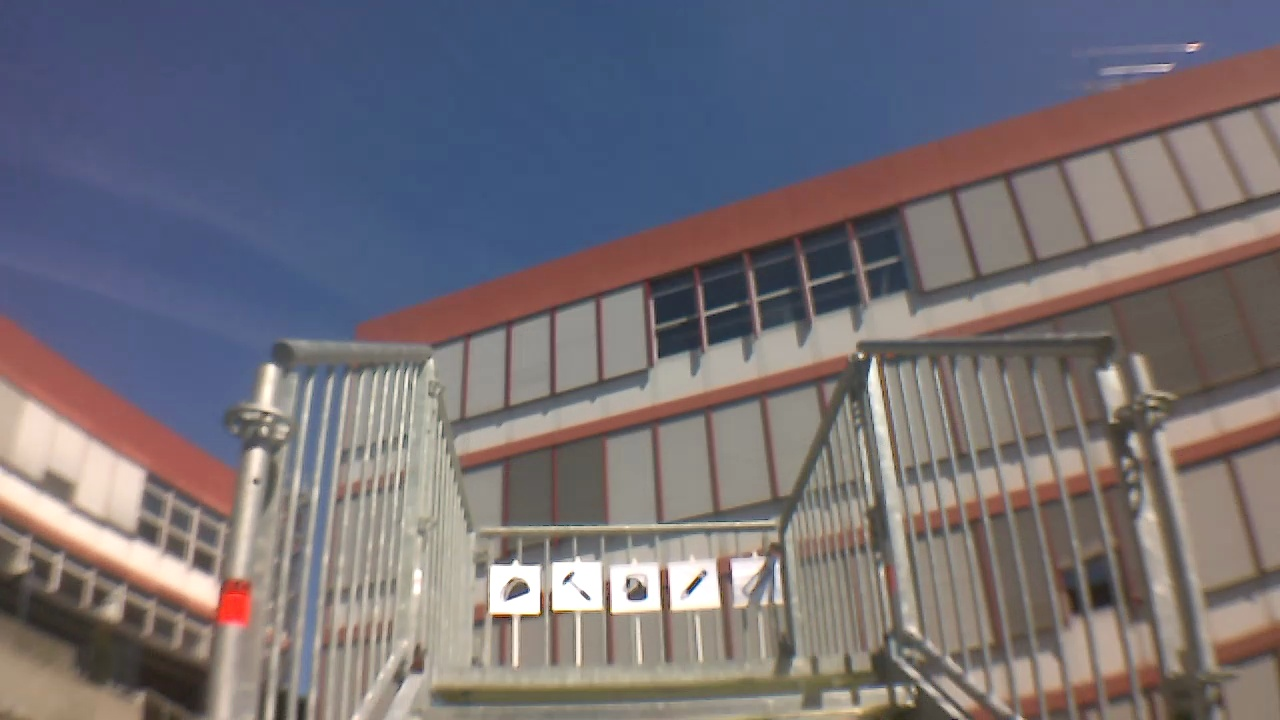edge: (433, 644, 889, 687), (401, 686, 921, 719)
stairs: (227, 310, 1233, 720)
